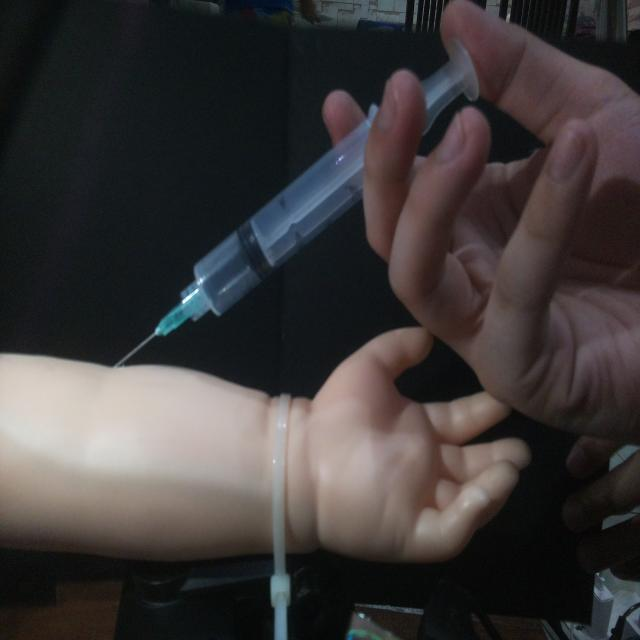30deg: (109, 36, 482, 371)
